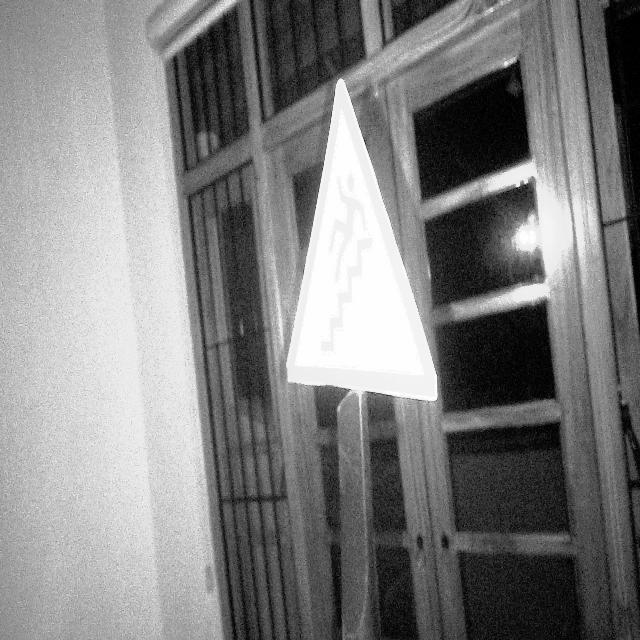Sign: (285, 76, 439, 404)
